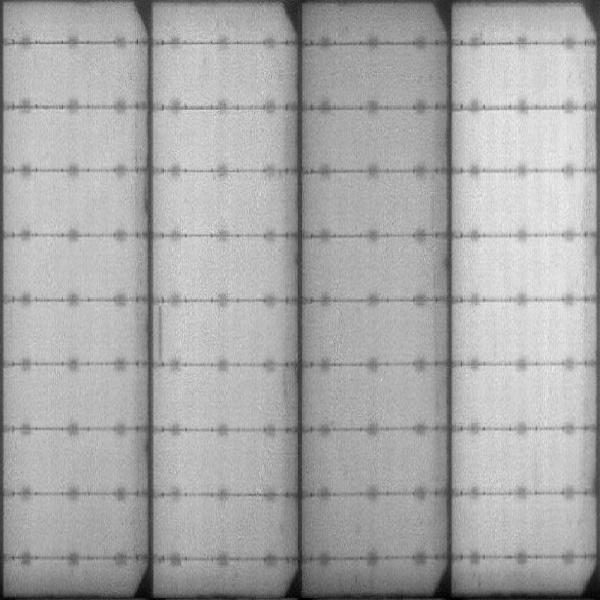scratch: (155, 308, 166, 361)
